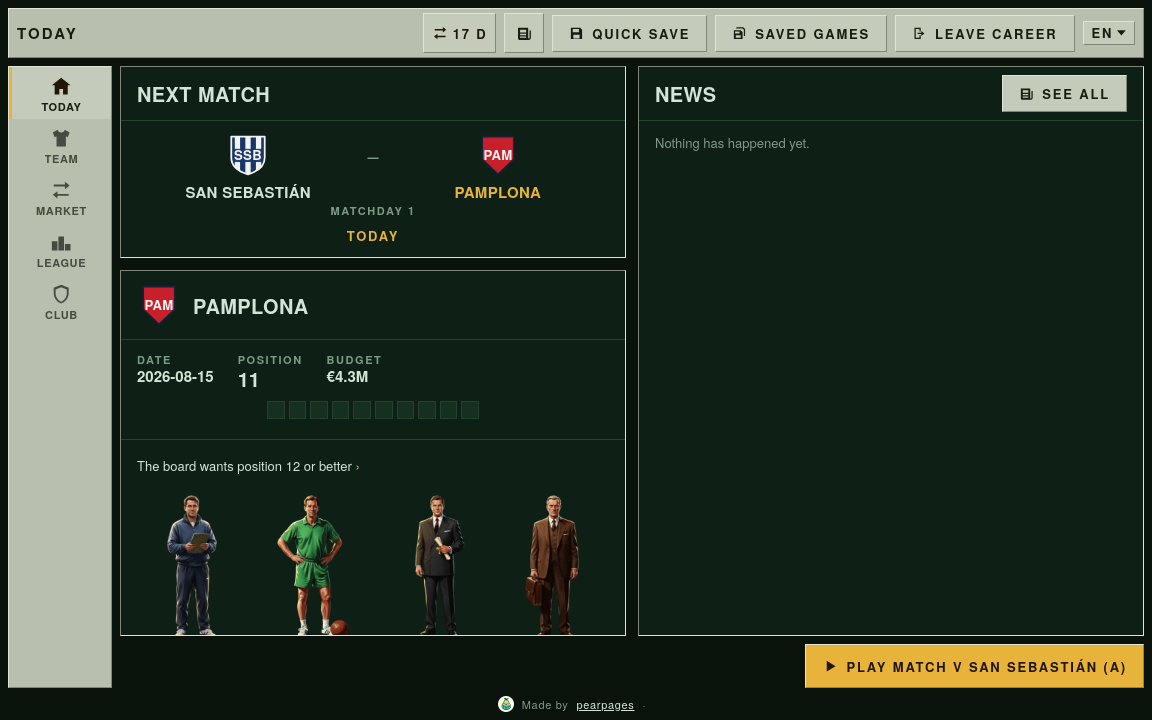
Caja › states the overdraft as a ceiling, never as a negative beside the balance
This screenshot has width=1152, height=720.
Click the button "Club".
click(60, 301)  # box [9, 275, 111, 327]
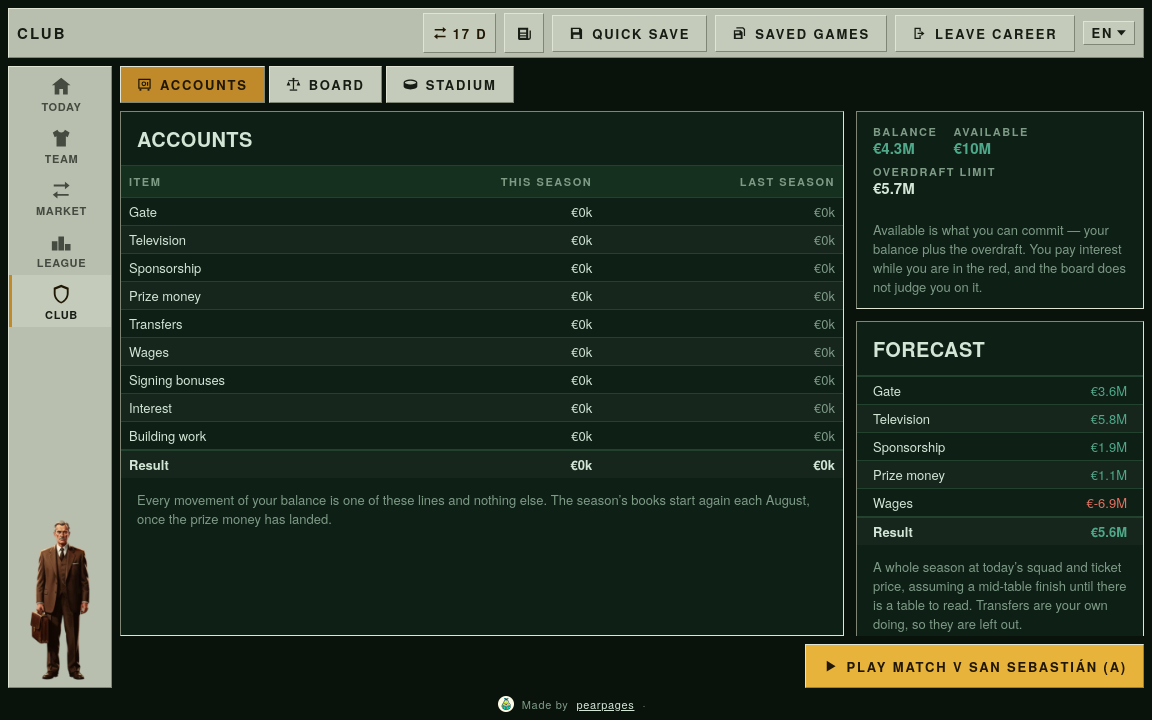
expect the text "Overdraft limit" is shown: met, box [873, 164, 996, 179]
expect the text "Available" is shown: met, box [954, 124, 1029, 139]
expect the text "€10M" is shown: met, box [954, 137, 991, 159]
